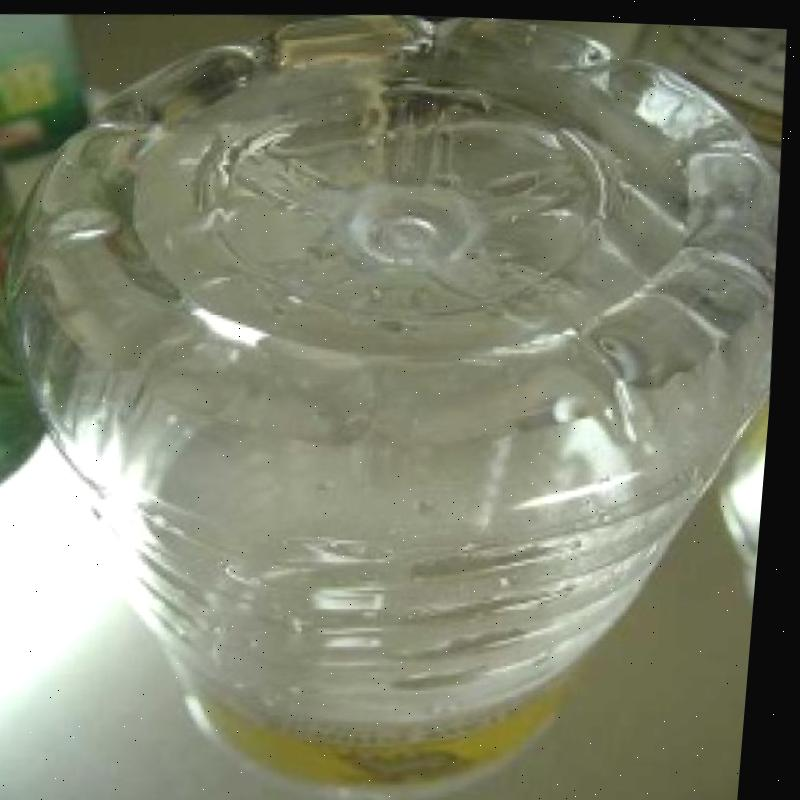botella: (0, 1, 800, 800)
